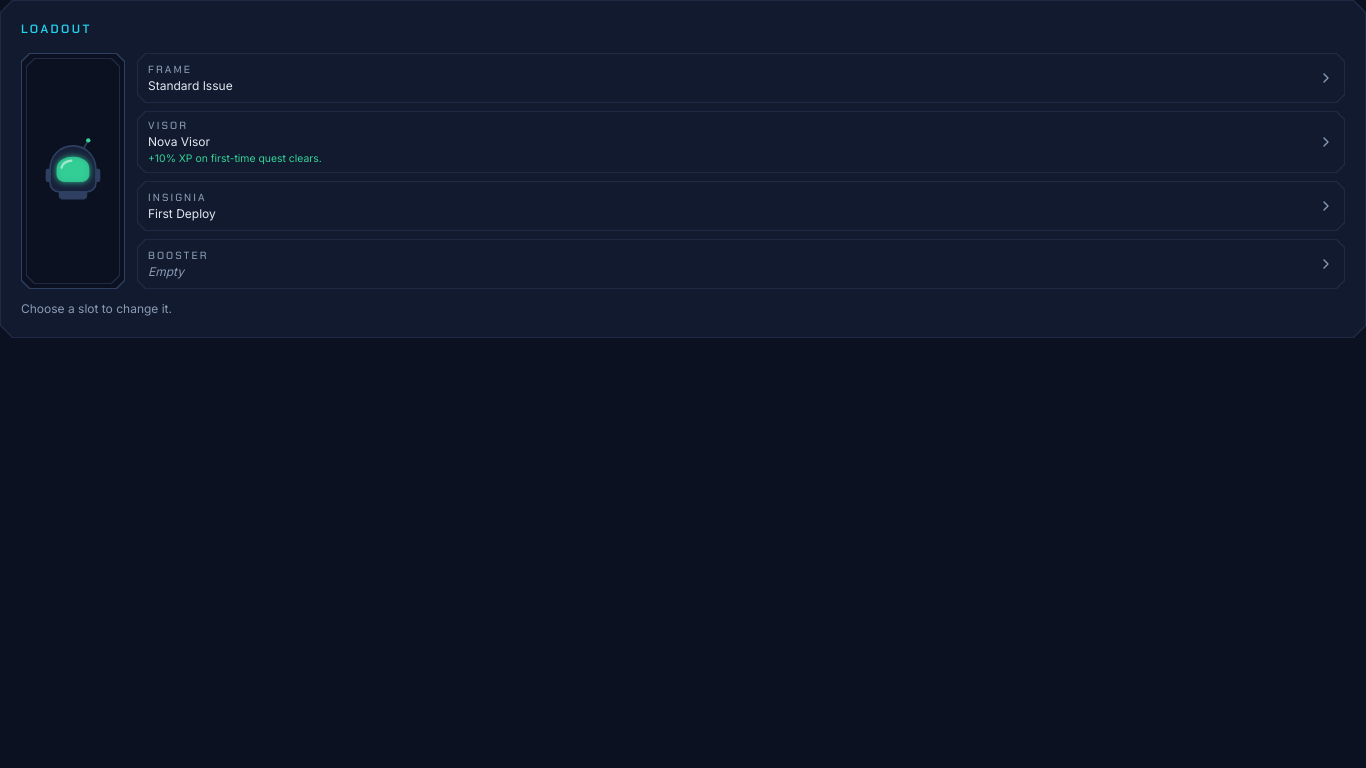
Test: LoadoutPanel › the Insignia slot opens the Title picker, which closes again
Click the button "Insignia First Deploy": (741, 206) [137,181,1345,231]
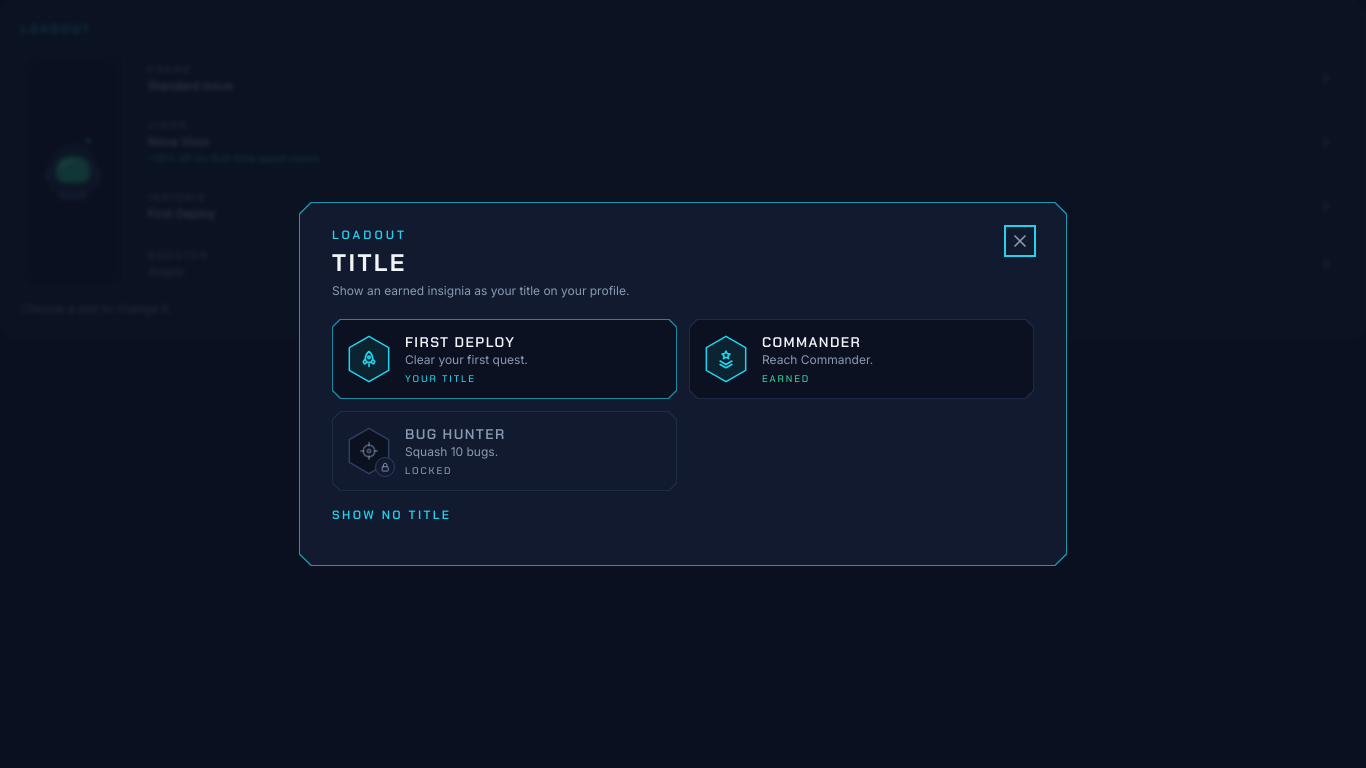
Click the button named "Close": (1020, 241) [1006,227,1034,255]
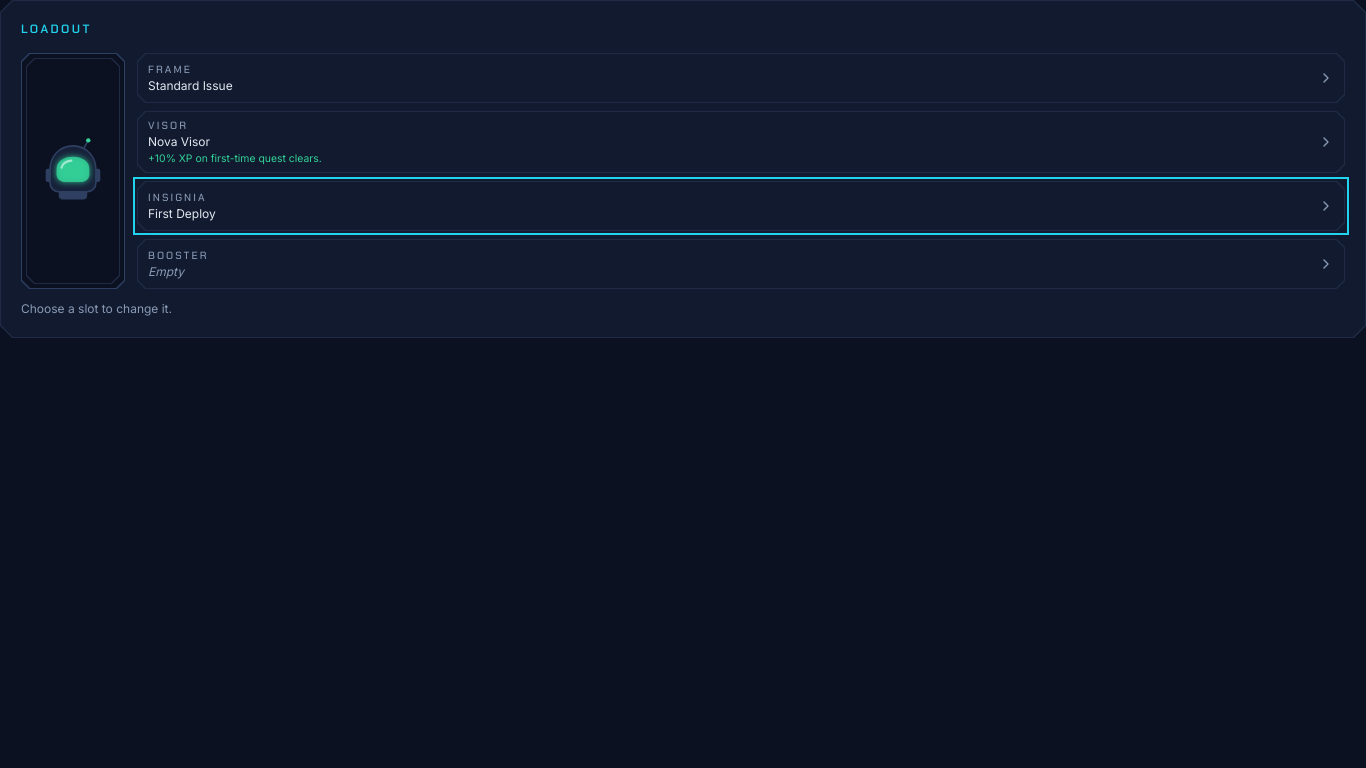
Check: the dialog is gone
